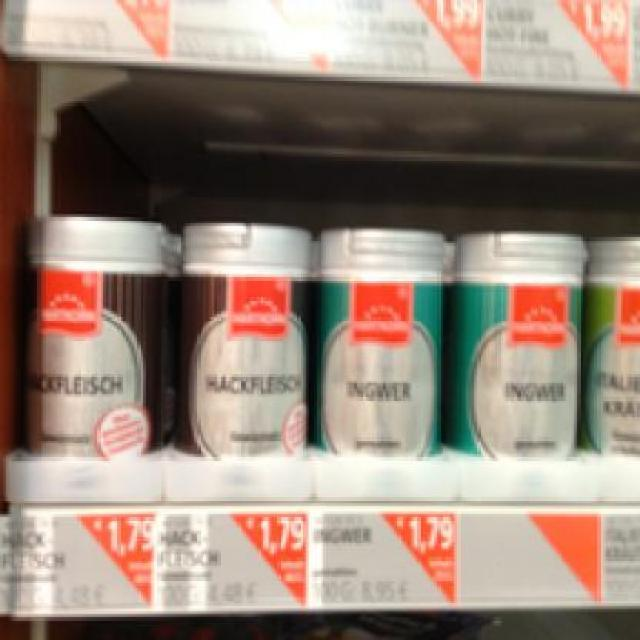Spices: (23, 208, 163, 452), (176, 214, 310, 452), (310, 222, 446, 455), (451, 228, 584, 452), (582, 232, 638, 448)
